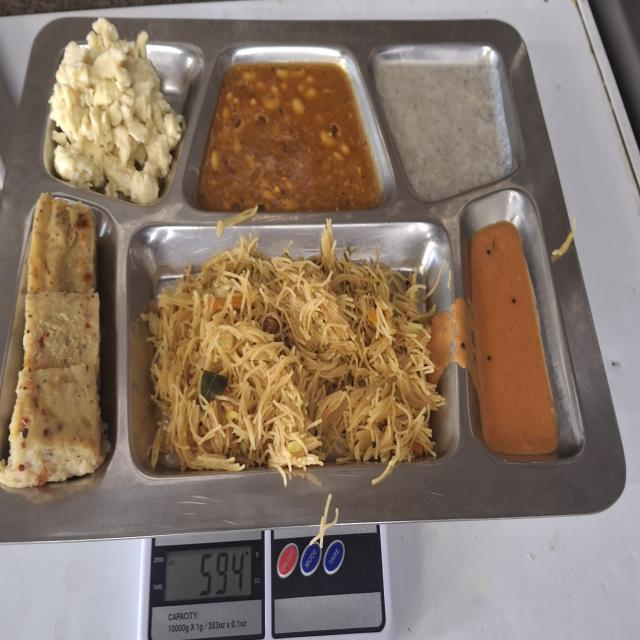Chutney: (471, 226, 558, 457)
Dal: (203, 58, 381, 218)
Egg Bhurji: (50, 22, 186, 208)
Hash Brown: (11, 194, 104, 493)
Porridge: (381, 48, 524, 194)
Upma: (139, 222, 441, 471)
